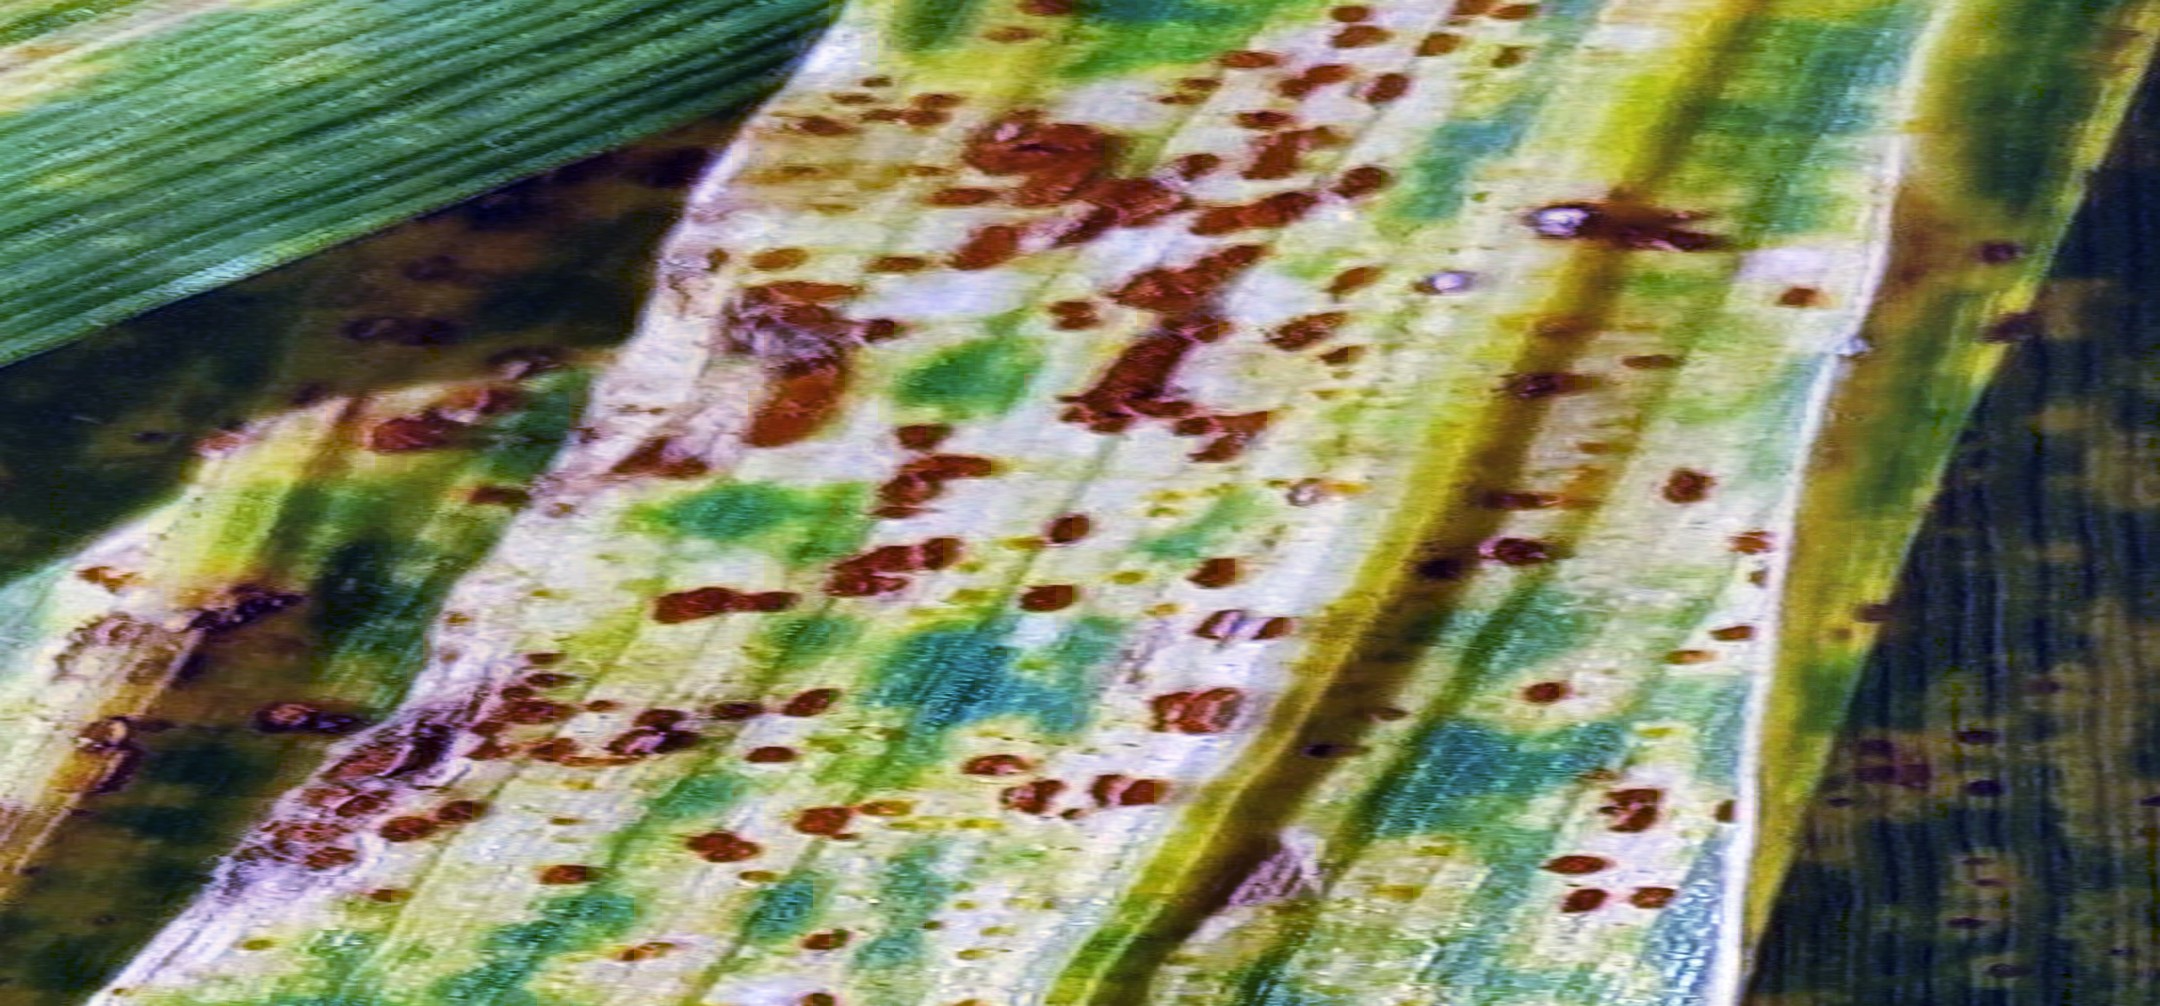Leaf Rust: (579, 34, 1755, 1006)
